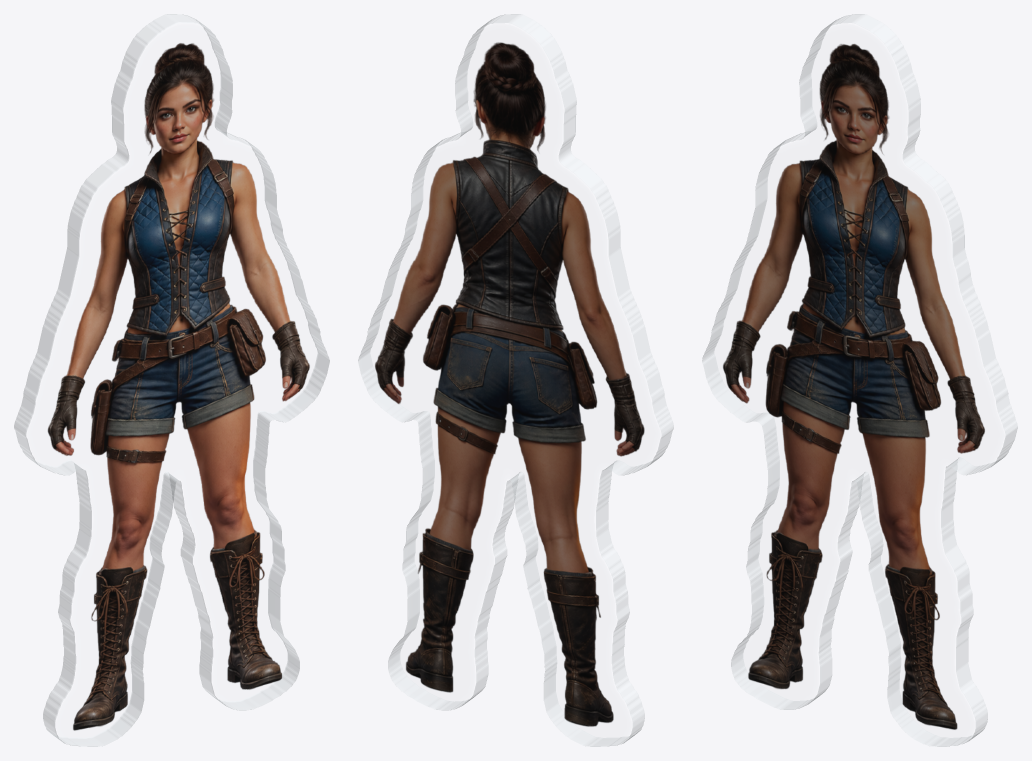
The model's file is lydia-empty.glb.
The picture shows the model from 3 angles, left to right: view 1: azimuth 30°, elevation 25°; view 2: azimuth 150°, elevation 25°; view 3: azimuth 330°, elevation 25°; orthographic projection.
Visible parts, largest first — view 1: preview_standee; view 2: preview_standee; view 3: preview_standee.
Part boxes in pixels (box(x1,y1,x2,y2)): preview_standee: box(14, 14, 329, 746); preview_standee: box(358, 14, 673, 746); preview_standee: box(702, 14, 1017, 746).
Bounding box in the file's own units: 0.5494 × 1.22 × 0.04.
3 materials, 2 textured.
